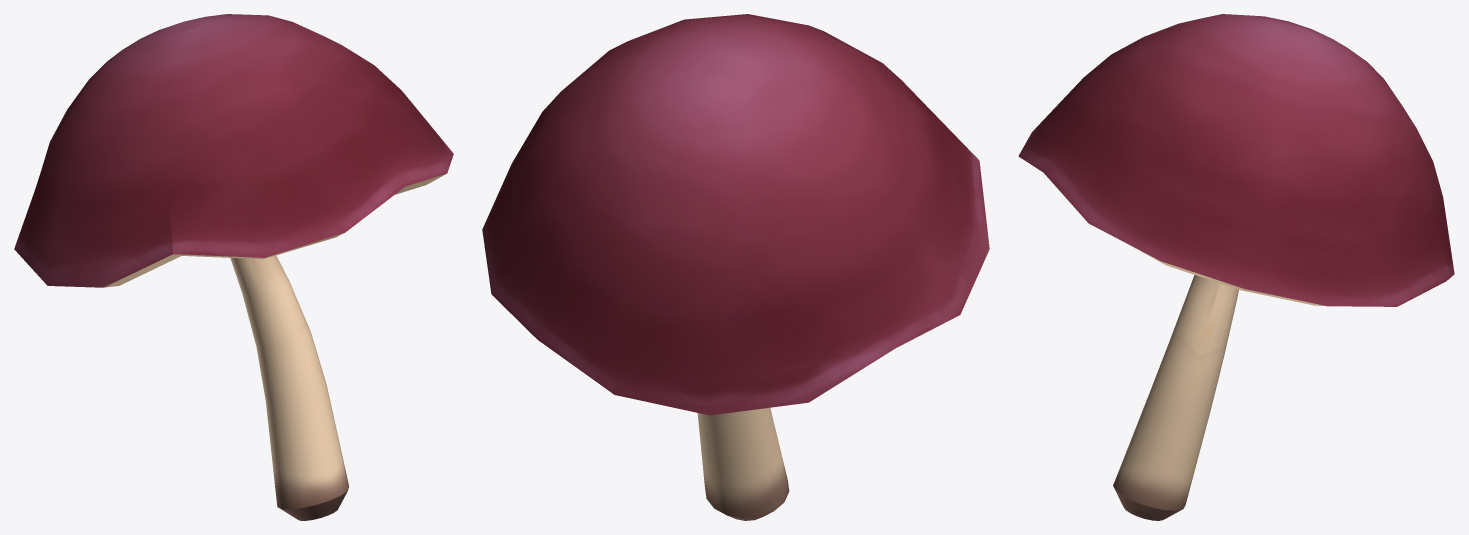
The model's file is sieni1.fbx.
3 renders of one model, left to right at view 1: azimuth 30°, elevation 25°; view 2: azimuth 150°, elevation 25°; view 3: azimuth 270°, elevation 25°, orthographic. The views are drawn at different scales.
Parts seen in each view (by area): view 1: violetti; view 2: violetti; view 3: violetti.
Part boxes in pixels (left/top/right/bottom): violetti: left=14, top=14, right=453, bottom=520; violetti: left=482, top=14, right=989, bottom=520; violetti: left=1018, top=14, right=1454, bottom=520.
Size of the model in its own units: 154 by 176 by 148.
